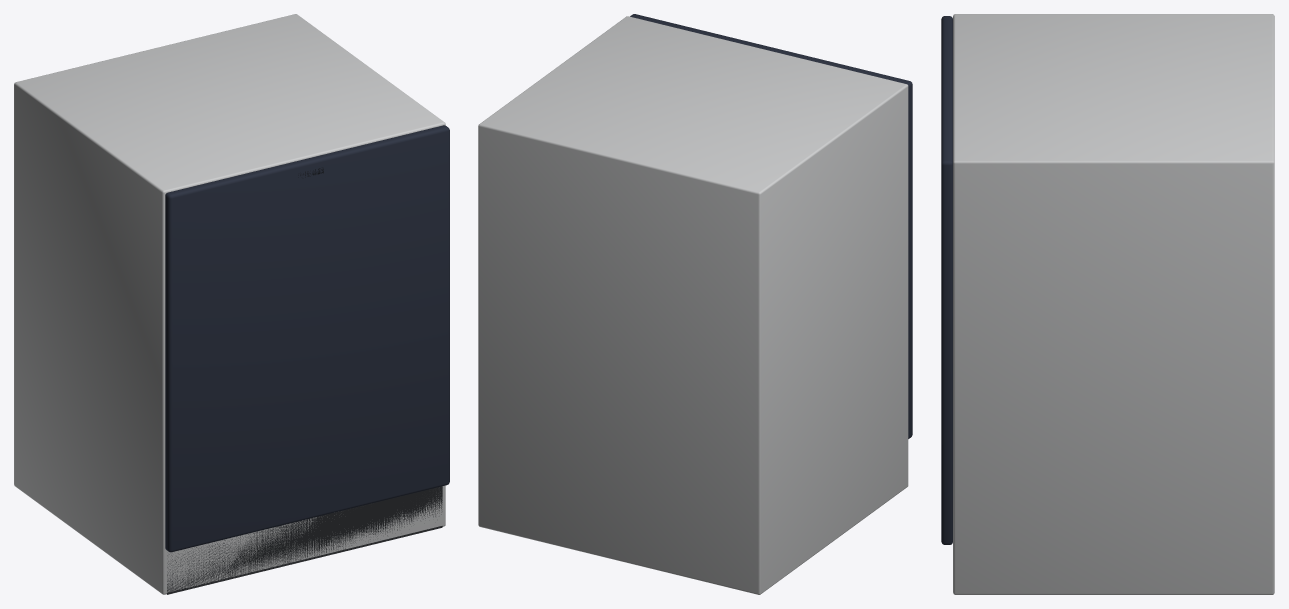
Rendered from DUE5MBL2E.glb.
3 renders of one model, left to right at view 1: azimuth 30°, elevation 25°; view 2: azimuth 150°, elevation 25°; view 3: azimuth 270°, elevation 25°, orthographic. The views are drawn at different scales.
Visible parts, largest first — view 1: DUE5MBL2E; view 2: DUE5MBL2E; view 3: DUE5MBL2E.
Boxes of the visible parts, box(x1,y1,x2,y2) form: DUE5MBL2E: box(14, 14, 449, 594); DUE5MBL2E: box(478, 14, 912, 594); DUE5MBL2E: box(941, 14, 1274, 594).
Bounding box in the file's own units: 0.598 × 0.815 × 0.567.
